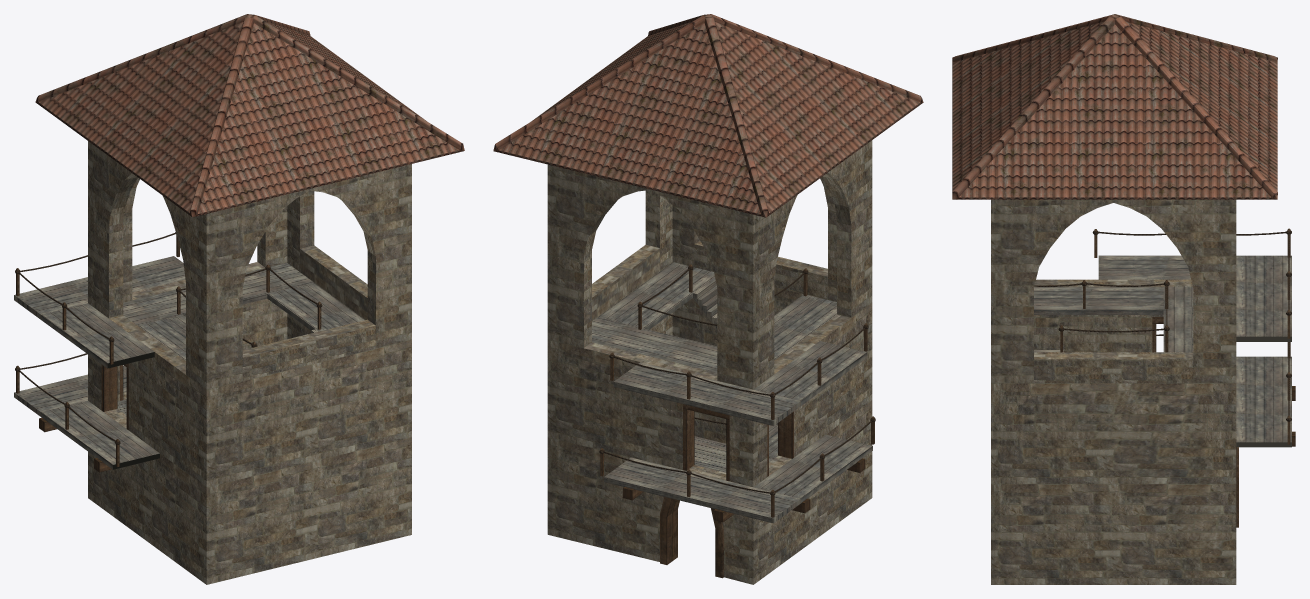
Rendered from FortTower1.dae.
3 renders of one model, left to right at view 1: azimuth 30°, elevation 25°; view 2: azimuth 150°, elevation 25°; view 3: azimuth 270°, elevation 25°, orthographic. The views are drawn at different scales.
Parts seen in each view (by area): view 1: forts_stone_sep21-0; view 2: forts_stone_sep21-0; view 3: forts_stone_sep21-0.
Boxes of the visible parts, box(x1,y1,x2,y2) form: forts_stone_sep21-0: box(14, 14, 464, 584); forts_stone_sep21-0: box(493, 14, 923, 584); forts_stone_sep21-0: box(952, 14, 1295, 584).
Bounding box in the file's own units: 12.17 × 20.06 × 12.07.
